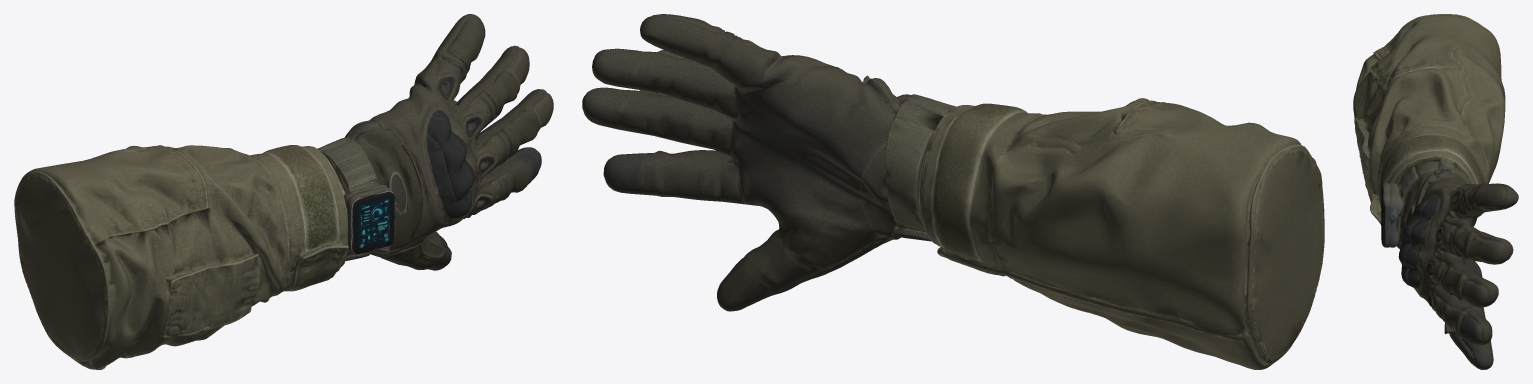
File: vm_arm.glb
3 views of the same model, side by side, from view 1: azimuth 30°, elevation 25°; view 2: azimuth 150°, elevation 25°; view 3: azimuth 270°, elevation 25° (orthographic). The views are drawn at different scales.
Size of the model in its own units: 1.9 by 0.7903 by 0.5887.
Materials: 1 (1 with a texture image).
